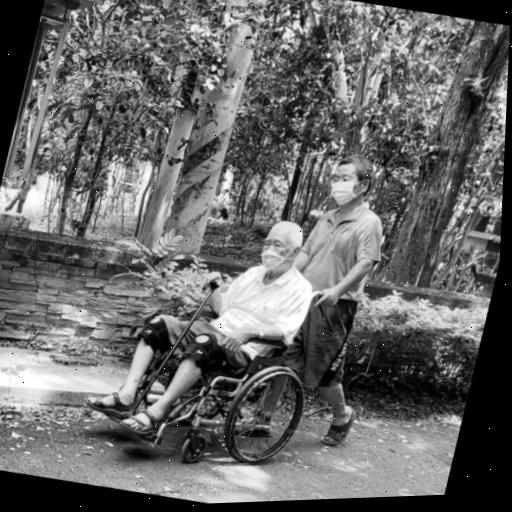mask: (257, 225, 291, 275), (328, 164, 361, 209)
